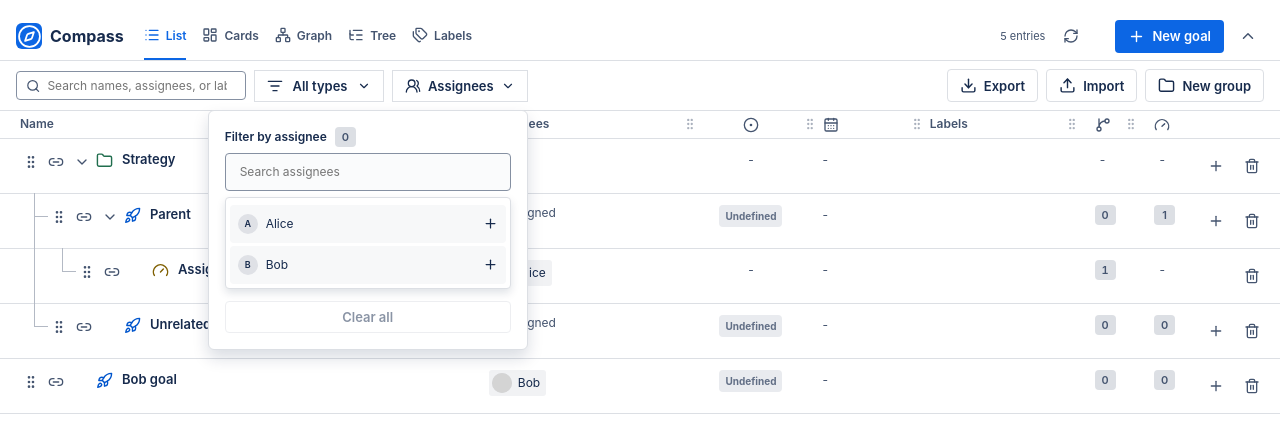
given the assignee filter, selecting people uses OR matching and clear all restores unrelated rows
Click the button "A Alice" at (248, 224), box 230,204 -> 506,242
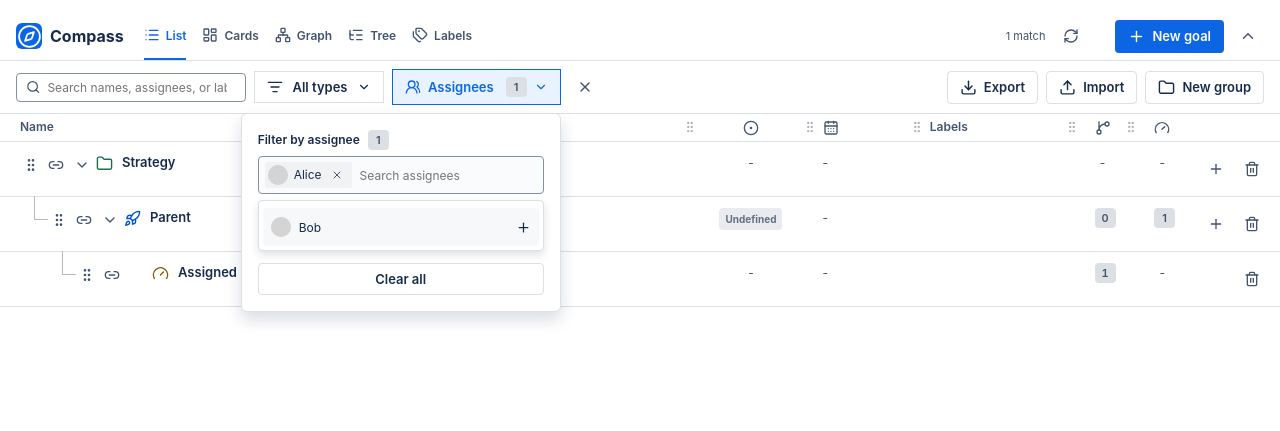
Check: the text with class "connection-count" reads "1 match", box 1006,29 -> 1045,43
Click the button "Bob" at (281, 227), box 263,208 -> 539,246
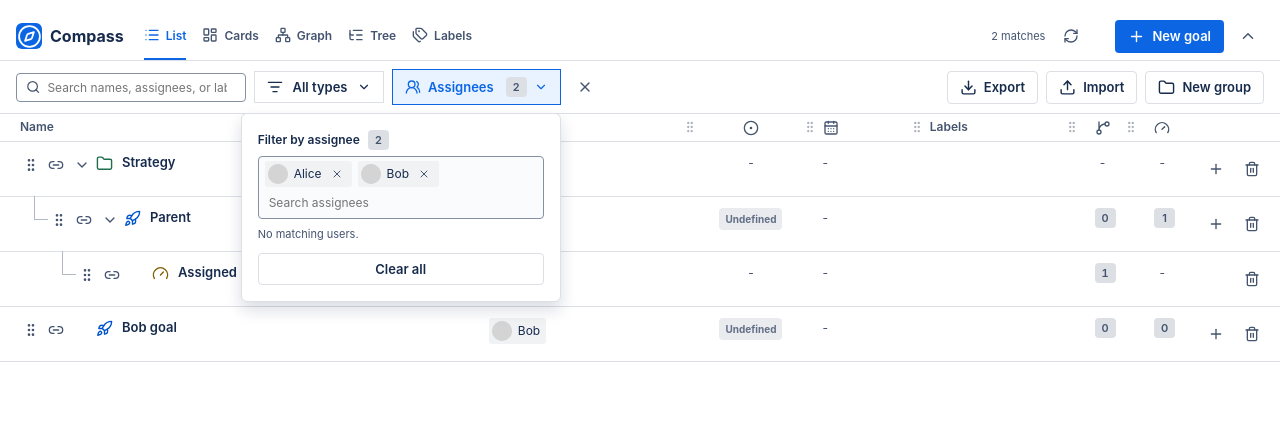
Click the button with class "clear-assignee-filter" at (401, 269), box 258,253 -> 544,285
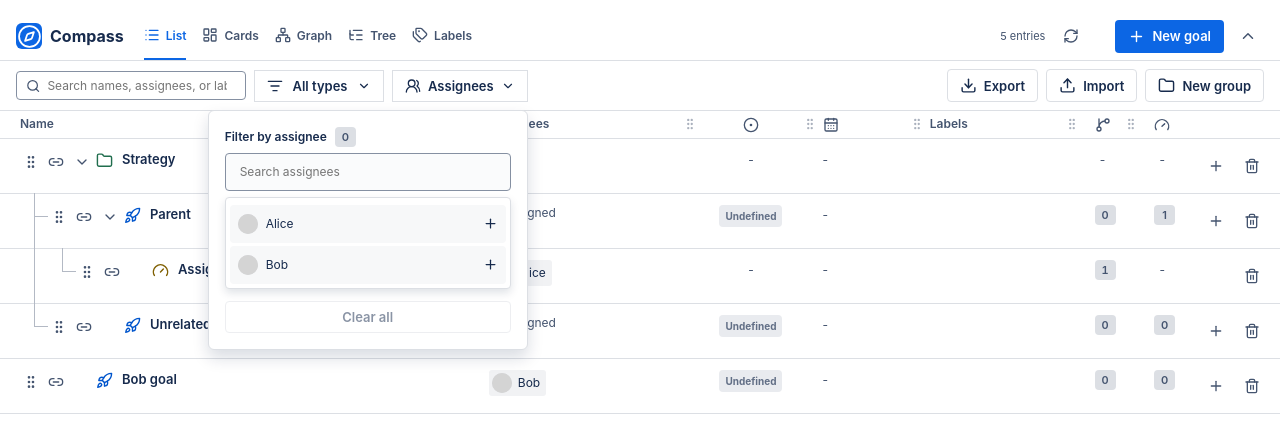
Check: the row "Unrelated Unassigned Undefined - 0 0" is shown, box 0,303 -> 1279,358
